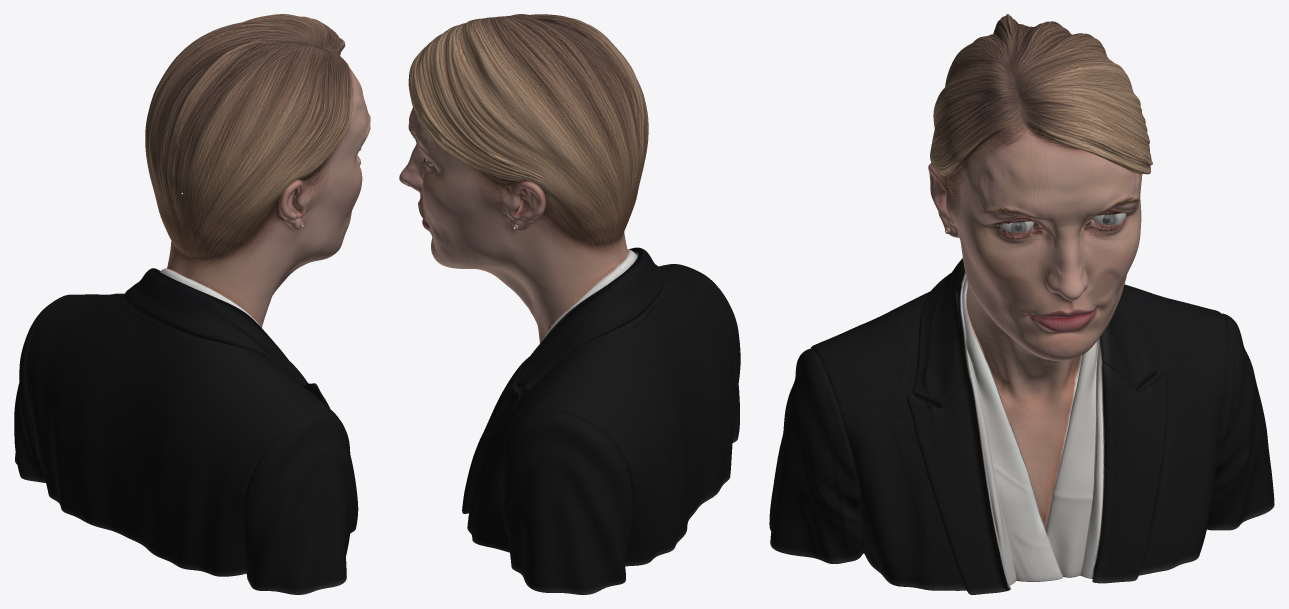
Rendered from astrid-eyes.glb.
The picture shows the model from 3 angles, left to right: view 1: azimuth 30°, elevation 25°; view 2: azimuth 150°, elevation 25°; view 3: azimuth 270°, elevation 25°; orthographic projection. The views are drawn at different scales.
Parts seen in each view (by area): view 1: Astrid_Face; view 2: Astrid_Face; view 3: Astrid_Face, Eyelids.R, Eyelids.L.
Boxes of the visible parts, x1,y1,x2,y2 form: Astrid_Face: [14, 14, 370, 594]; Astrid_Face: [399, 14, 740, 594]; Astrid_Face: [769, 14, 1274, 594]; Eyelids.R: [984, 214, 1051, 249]; Eyelids.L: [1082, 204, 1136, 241].
Bounding box in the file's own units: 0.6423 × 1 × 0.8603.
Materials: 7 (5 with a texture image).
